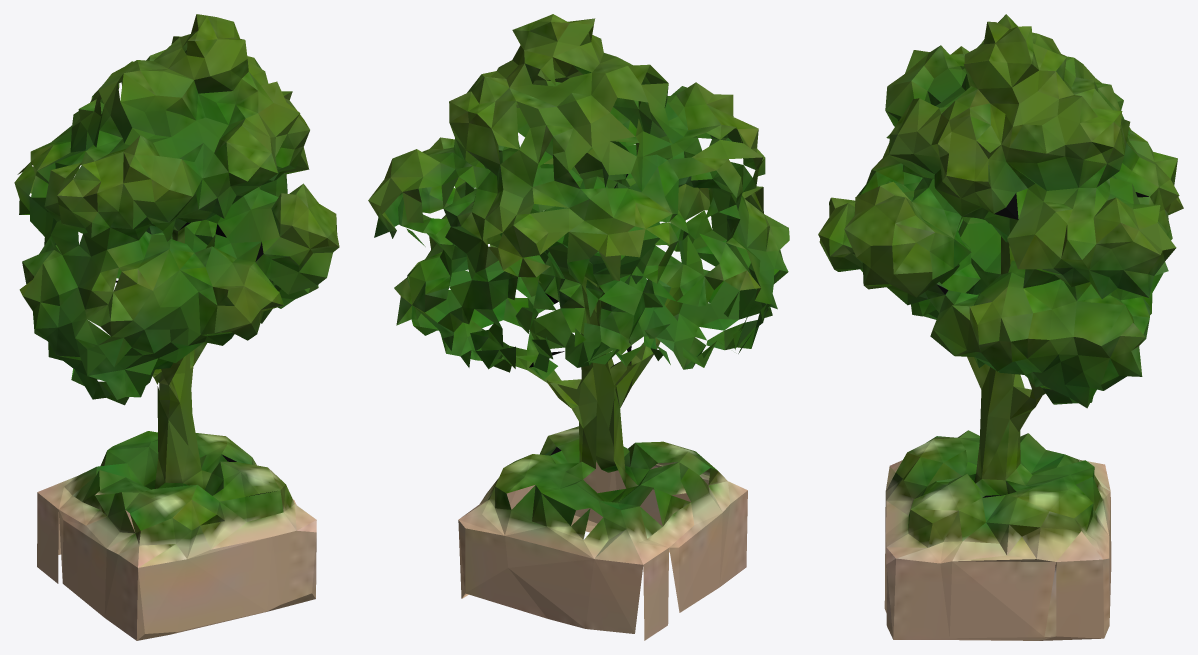
The model's file is M-10_05_streettree.glb.
3 views of the same model, side by side, from view 1: azimuth 30°, elevation 25°; view 2: azimuth 150°, elevation 25°; view 3: azimuth 270°, elevation 25° (orthographic). The views are drawn at different scales.
Parts seen in each view (by area): view 1: loA; view 2: loA; view 3: loA.
Boxes of the visible parts, x1,y1,x2,y2 form: loA: [14, 14, 339, 640]; loA: [368, 14, 789, 640]; loA: [818, 14, 1183, 640].
Bounding box in the file's own units: 4.91 × 8.3 × 4.67.
1 material, 1 textured.
